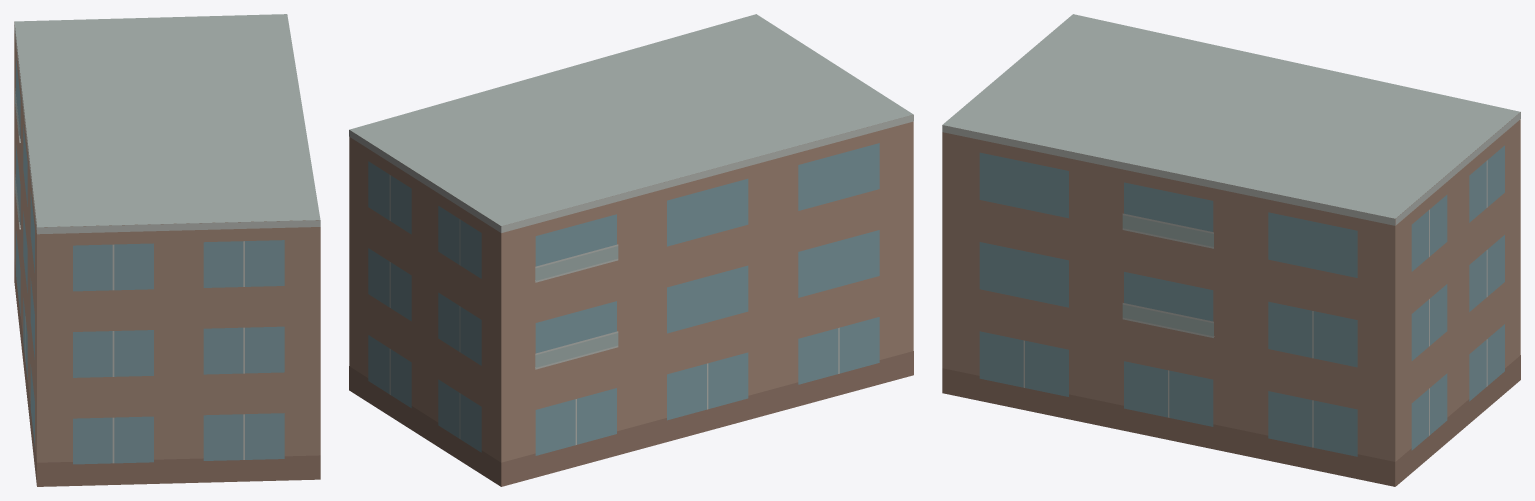
Rendered from survey-upis-32973803.glb.
3 views of the same model, side by side, from view 1: azimuth 30°, elevation 25°; view 2: azimuth 150°, elevation 25°; view 3: azimuth 270°, elevation 25° (orthographic). The views are drawn at different scales.
Visible parts, largest first — view 1: survey-upis-32973803.tmp; view 2: survey-upis-32973803.tmp; view 3: survey-upis-32973803.tmp.
Boxes of the visible parts, x1,y1,x2,y2 form: survey-upis-32973803.tmp: (14,14,320,486); survey-upis-32973803.tmp: (349,14,913,486); survey-upis-32973803.tmp: (942,14,1520,486).
Bounding box in the file's own units: 14.99 × 9.15 × 17.9.
